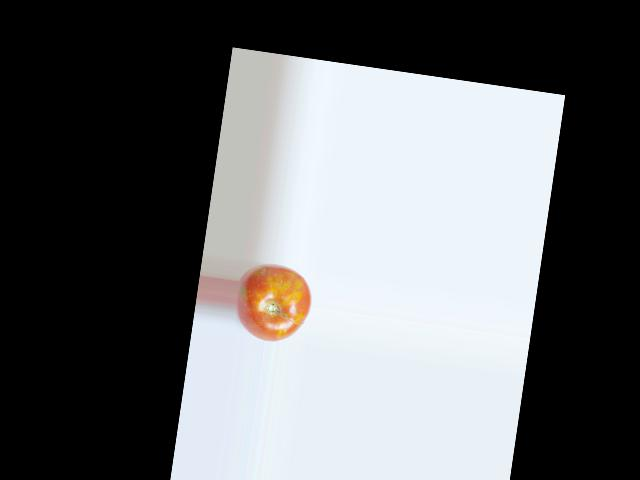tomato: (231, 259, 315, 346)
